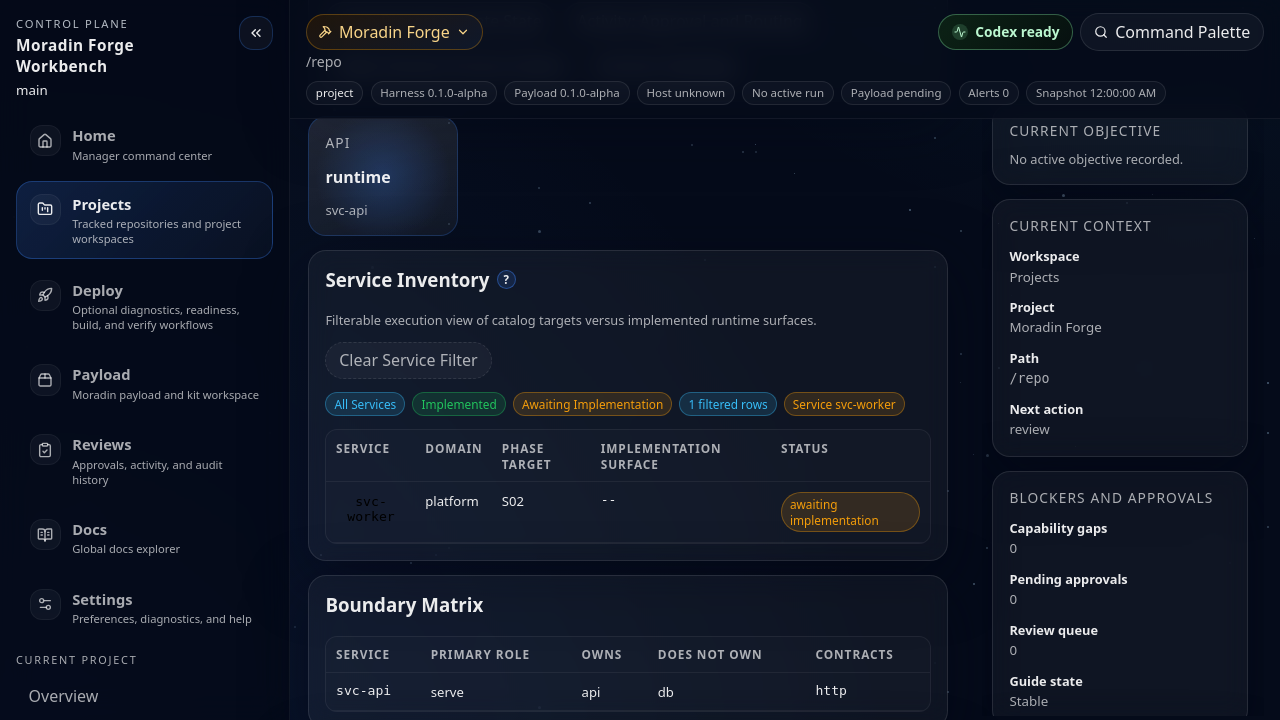
Test: project topology page › respects query filters and lets the operator clear the service filter
The image size is (1280, 720).
(page scrolled)
Expected: the 1st text "/repo" is shown, [306,52,342,71]
Expected: the button "svc-worker" is shown, [336,494,406,524]
Click the button "Clear Service Filter".
click(408, 360)  # box [325,342,492,379]
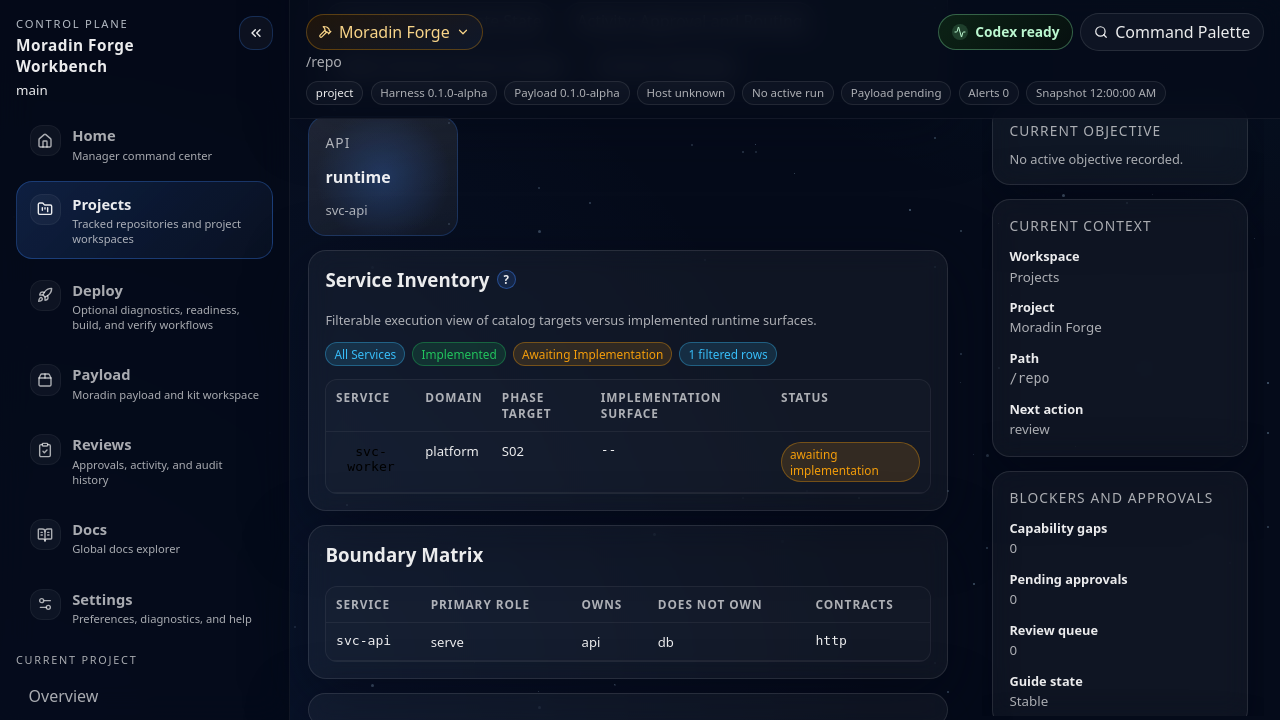
Expected: the text "Service svc-worker" is gone
